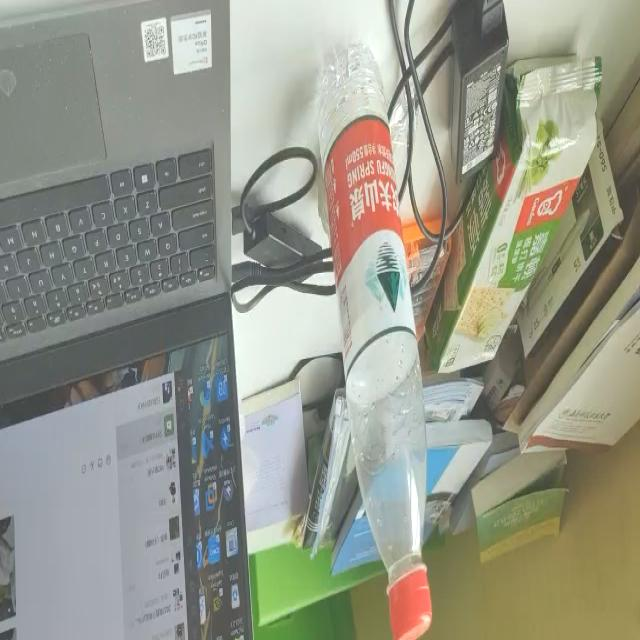bottle: (310, 33, 435, 640)
